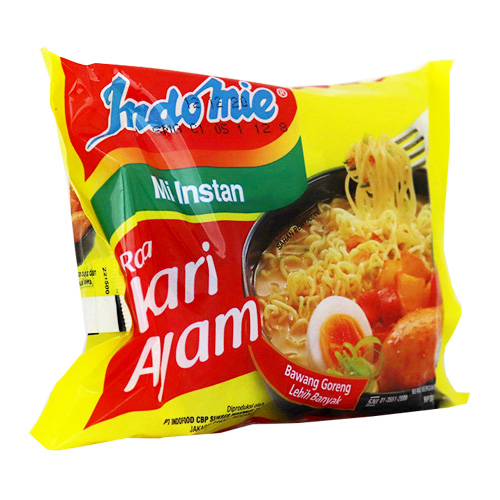indomie kari ayam: (17, 31, 477, 420)
